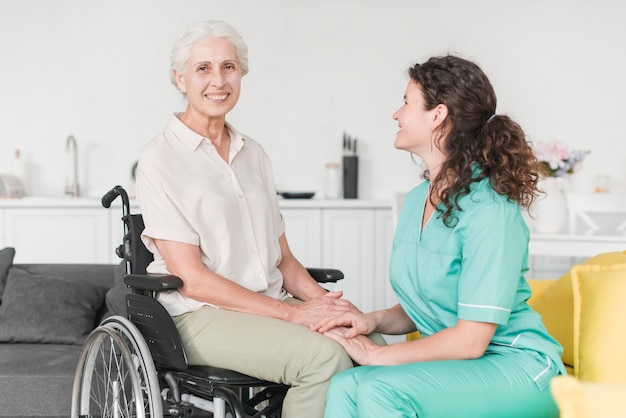wheelchair: (70, 18, 347, 418)
